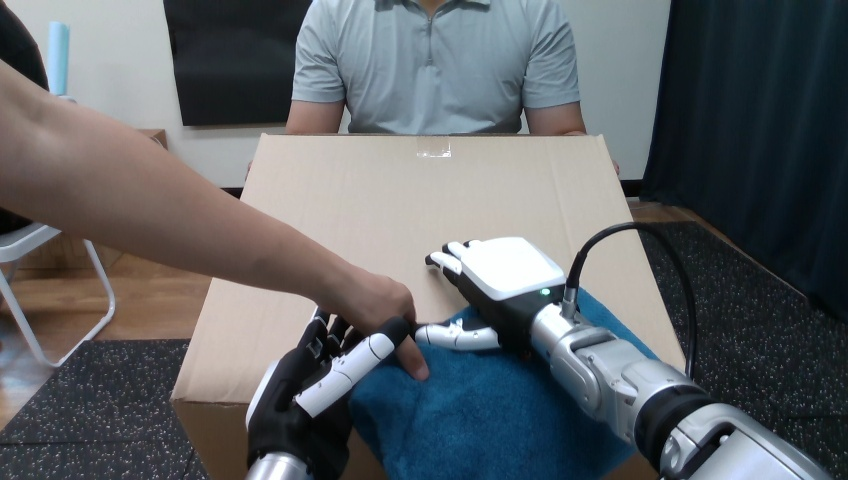left robot hand: (372, 223, 825, 478), (246, 311, 390, 477)
